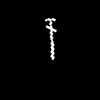double_crochet: (45, 18, 55, 58)
